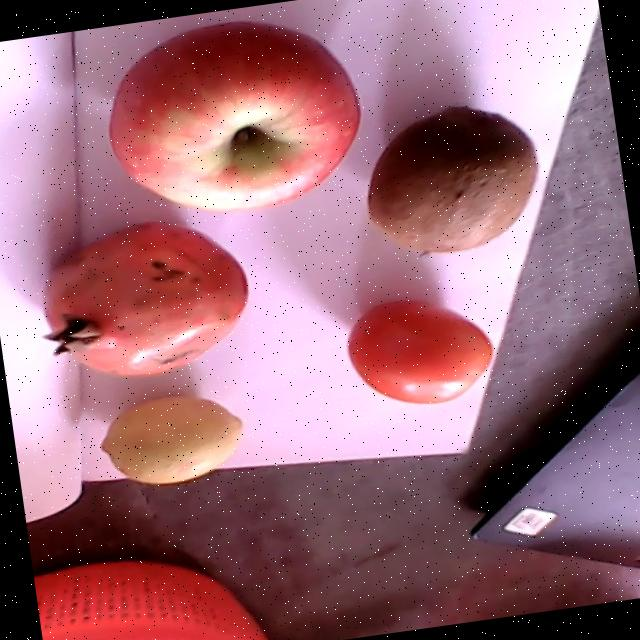apple: (110, 20, 358, 212)
kiwi: (368, 105, 534, 256)
lemon: (101, 397, 242, 485)
pomegranate: (43, 221, 247, 376)
tomato: (348, 299, 492, 405)
